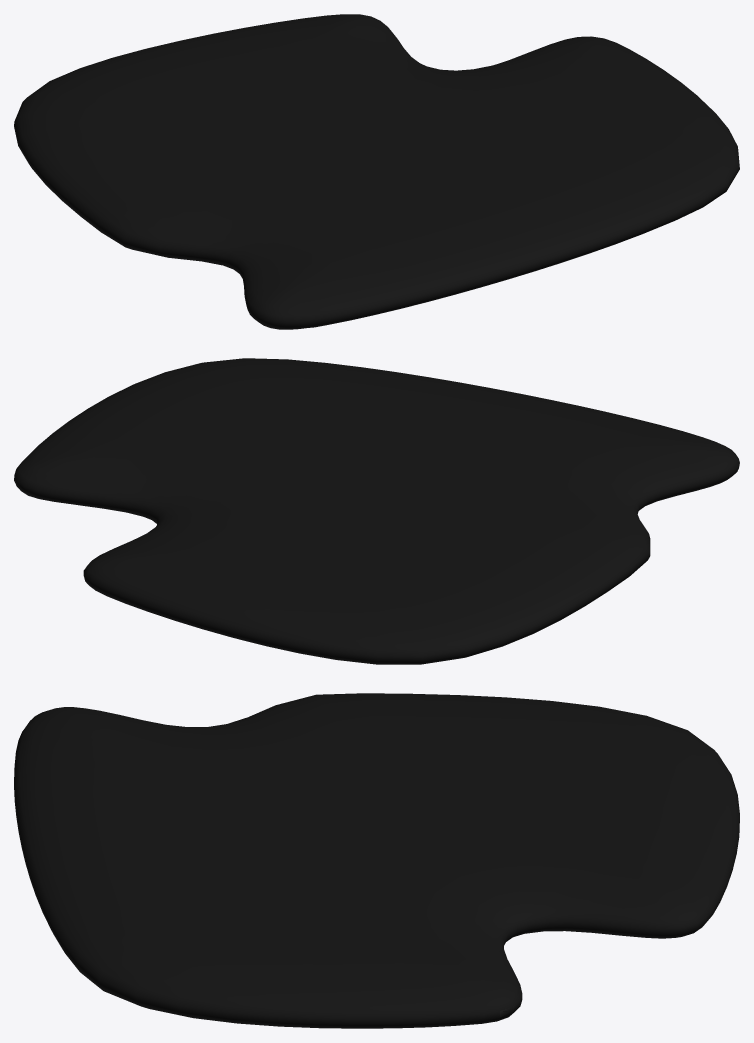
The model's file is static1.fbx.
3 renders of one model, top to bottom at view 1: azimuth 30°, elevation 25°; view 2: azimuth 150°, elevation 25°; view 3: azimuth 270°, elevation 25°, orthographic. The views are drawn at different scales.
Visible parts, largest first — view 1: Remesh; view 2: Remesh; view 3: Remesh.
Boxes of the visible parts, <box> form: Remesh: <box>14,14,739,329</box>; Remesh: <box>14,358,739,664</box>; Remesh: <box>14,693,739,1028</box>.
Bounding box in the file's own units: 341 × 22.43 × 325.
1 material, 1 textured.
